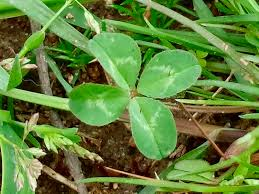4-clover: (73, 33, 197, 161)
